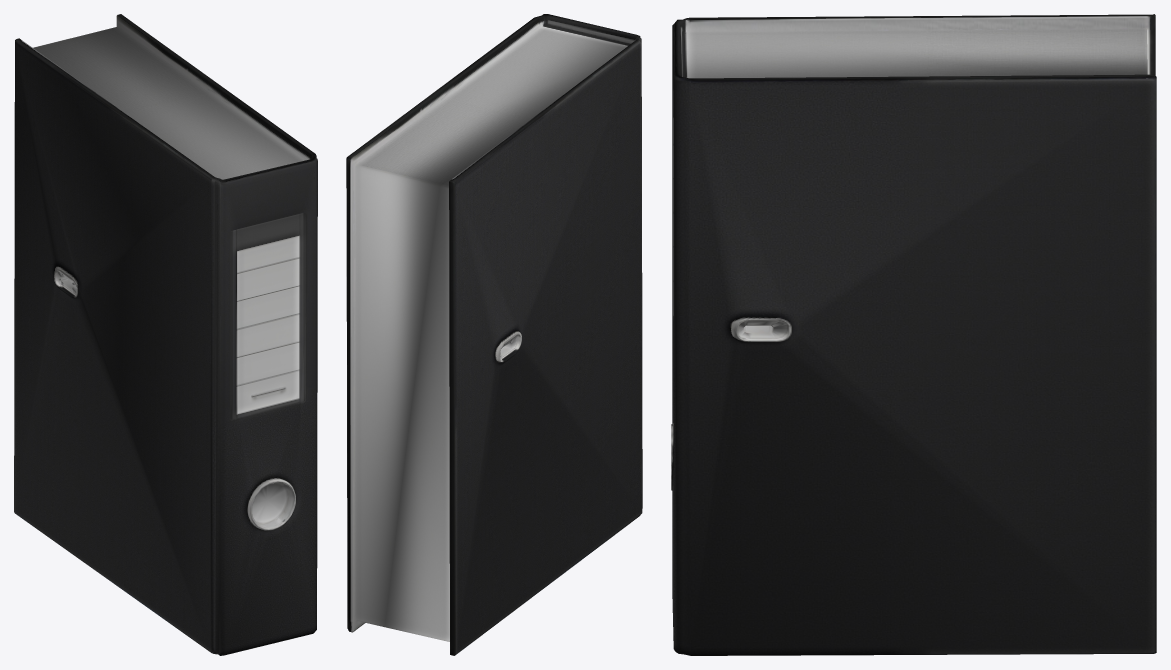
The model's file is PRP_FileBinder_B.fbx.
The picture shows the model from 3 angles, left to right: view 1: azimuth 30°, elevation 25°; view 2: azimuth 150°, elevation 25°; view 3: azimuth 270°, elevation 25°; orthographic projection. The views are drawn at different scales.
Parts seen in each view (by area): view 1: tripo_node_cca4a65b-9c66-44bc-b9d7-56828172d431; view 2: tripo_node_cca4a65b-9c66-44bc-b9d7-56828172d431; view 3: tripo_node_cca4a65b-9c66-44bc-b9d7-56828172d431.
Part boxes in pixels (bbox=[...]): tripo_node_cca4a65b-9c66-44bc-b9d7-56828172d431: bbox=[14, 14, 317, 655]; tripo_node_cca4a65b-9c66-44bc-b9d7-56828172d431: bbox=[346, 14, 642, 655]; tripo_node_cca4a65b-9c66-44bc-b9d7-56828172d431: bbox=[671, 14, 1156, 655].
Bounding box in the file's own units: 25.59 × 99.8 × 75.98.
Materials: 1 (1 with a texture image).
